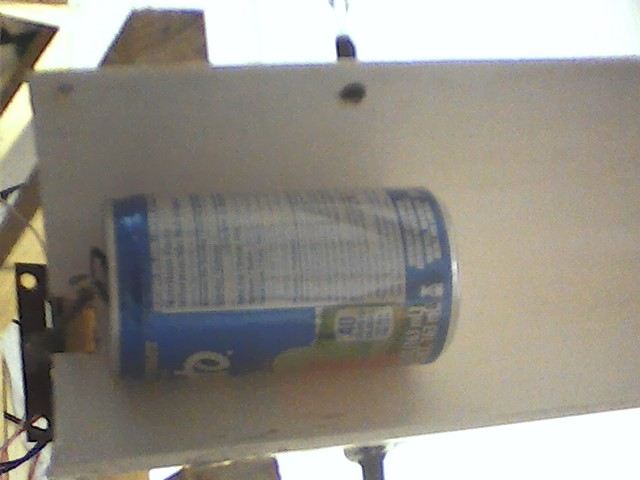lata: (96, 186, 467, 390)
